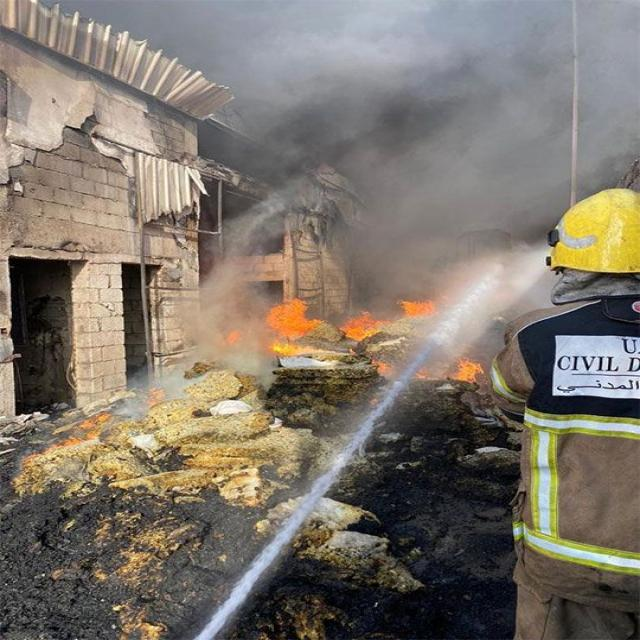Fire: (265, 298, 323, 357), (340, 310, 388, 340), (397, 296, 439, 320), (455, 356, 485, 384)
Smoke: (139, 0, 640, 388)
